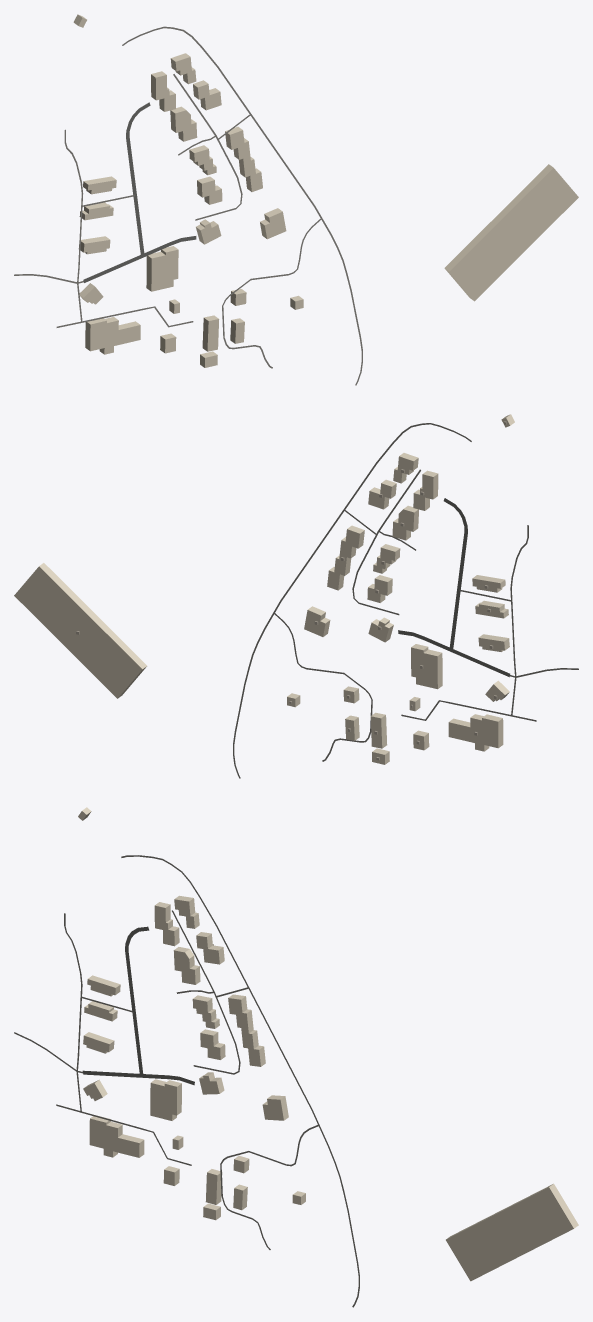
File: historic-palestine-13_31_3552_3252.glb
3 views of the same model, one above another, from view 1: azimuth 30°, elevation 25°; view 2: azimuth 150°, elevation 25°; view 3: azimuth 330°, elevation 25° (orthographic).
Parts seen in each view (by area): view 1: Building_, Building_.007, Building_.005, Building_.014, Road, Building_.013, Road .003, Building_.012, Building_.018, Building_.011, Building_.022, Building_.016 (+4 smaller); view 2: Building_, Building_.007, Building_.005, Building_.014, Road, Building_.013, Road .003, Building_.012, Building_.018, Building_.011, Building_.022, Building_.016 (+4 smaller); view 3: Building_, Building_.007, Building_.014, Building_.005, Road, Building_.013, Building_.012, Road .003.
Boxes of the visible parts, bbox=[...] form: Building_: bbox=[444, 164, 578, 301]; Building_.007: bbox=[85, 317, 140, 354]; Building_.005: bbox=[146, 246, 178, 291]; Building_.014: bbox=[225, 126, 262, 191]; Road: bbox=[122, 26, 362, 385]; Building_.013: bbox=[151, 71, 175, 111]; Road .003: bbox=[126, 102, 150, 256]; Building_.012: bbox=[170, 106, 197, 141]; Building_.018: bbox=[260, 208, 286, 239]; Building_.011: bbox=[193, 80, 221, 110]; Building_.022: bbox=[202, 315, 219, 351]; Building_.016: bbox=[197, 176, 222, 204]; Building_: bbox=[14, 563, 146, 698]; Building_.007: bbox=[448, 714, 503, 751]; Building_.005: bbox=[411, 644, 442, 689]; Building_.014: bbox=[327, 525, 364, 590]; Road: bbox=[233, 423, 471, 778]; Building_.013: bbox=[413, 470, 438, 510]; Road .003: bbox=[443, 498, 467, 649]; Building_.012: bbox=[392, 505, 418, 540]; Building_.018: bbox=[304, 606, 330, 636]; Building_.011: bbox=[368, 479, 396, 509]; Building_.022: bbox=[370, 712, 387, 748]; Building_.016: bbox=[367, 575, 392, 602]; Building_: bbox=[446, 1183, 578, 1281]; Building_.007: bbox=[89, 1116, 144, 1157]; Building_.014: bbox=[228, 994, 265, 1066]; Building_.005: bbox=[150, 1079, 181, 1120]; Road: bbox=[121, 855, 359, 1307]; Building_.013: bbox=[154, 902, 179, 946]; Building_.012: bbox=[173, 947, 200, 984]; Road .003: bbox=[125, 926, 149, 1075].
Size of the model in its own units: 494 by 363 by 8.7.
